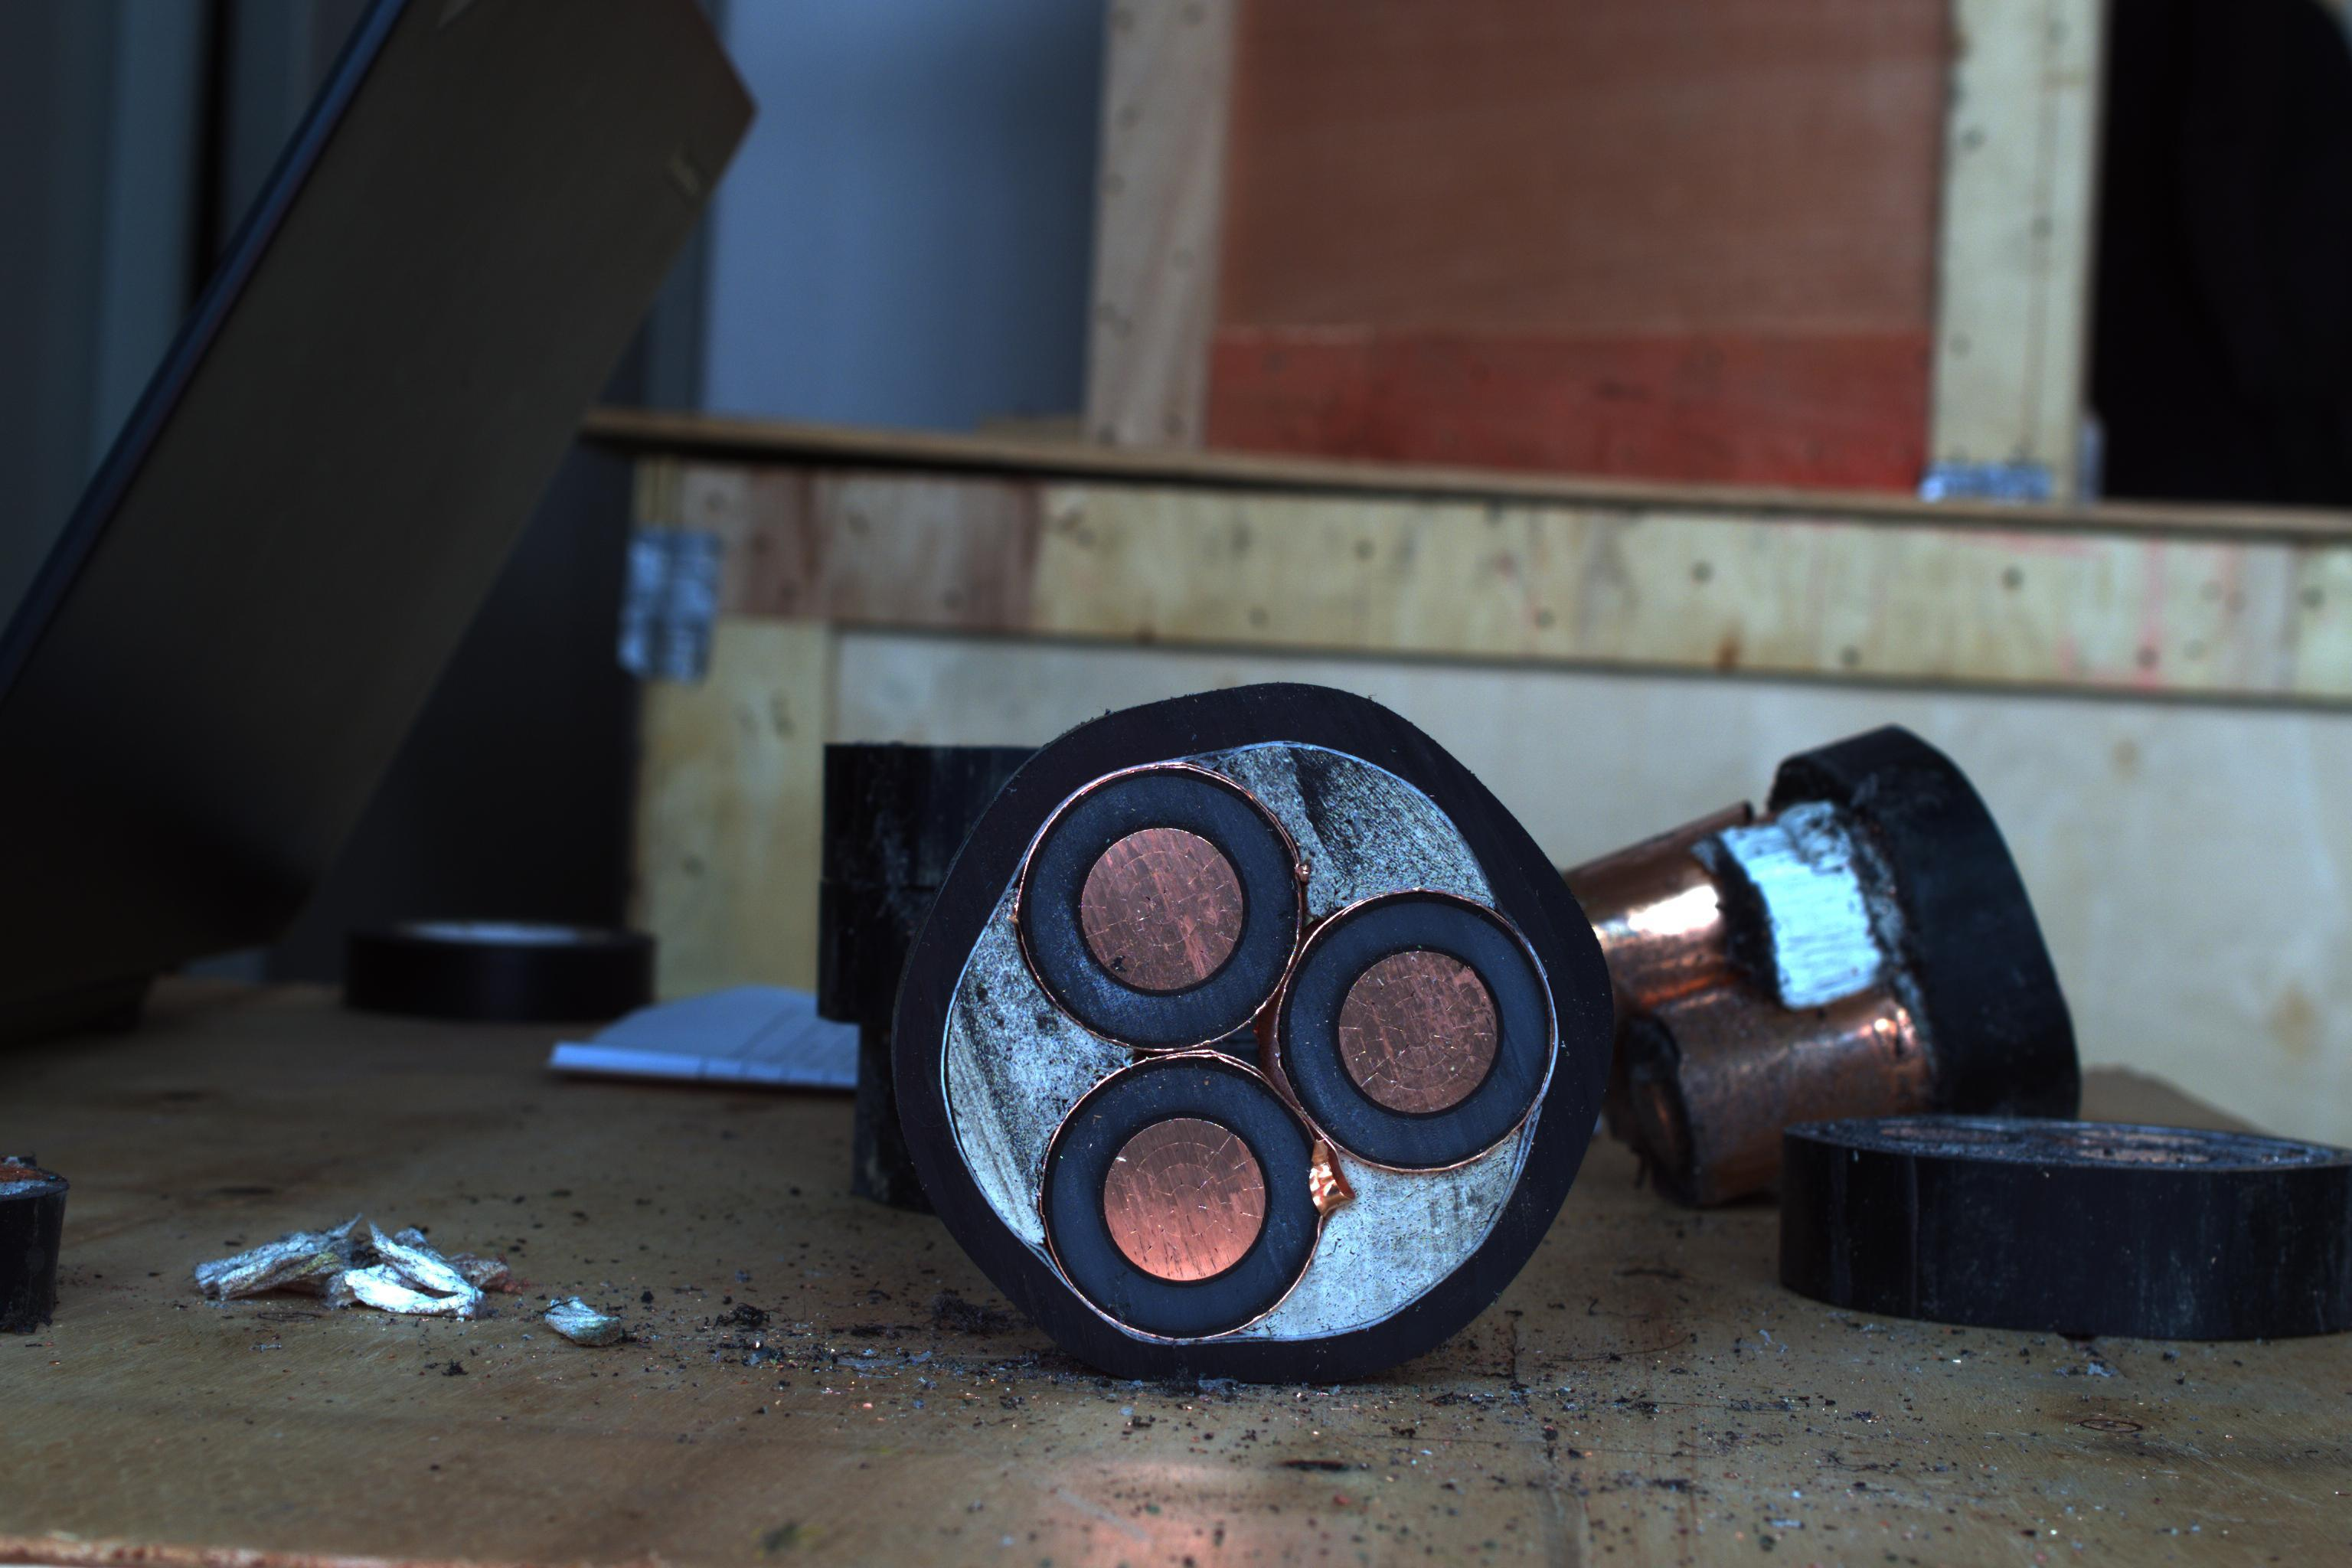ZA_YJV_8.7_10kV_3x240: (913, 709, 1575, 1365)
